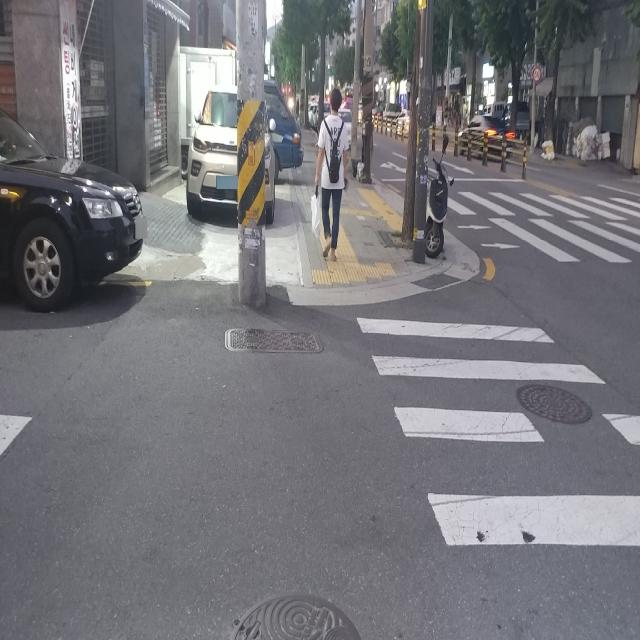횡단보도: (356, 316, 640, 547), (440, 172, 640, 292)
